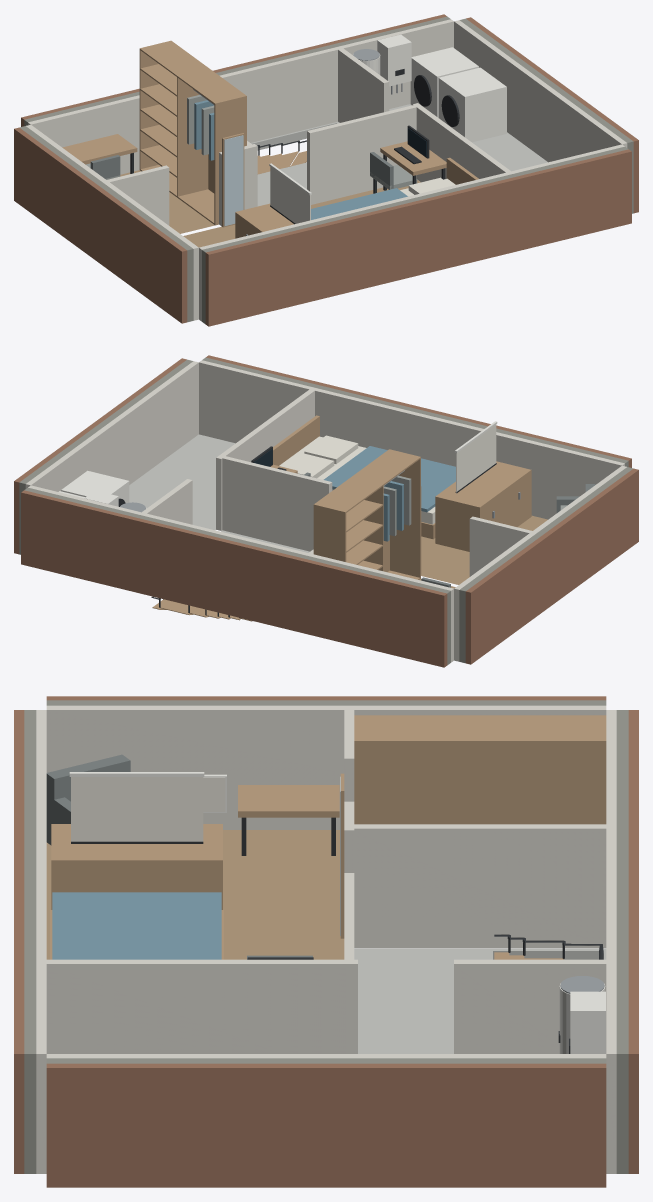
The model's file is attic.glb.
3 views of the same model, one above another, from view 1: azimuth 30°, elevation 25°; view 2: azimuth 150°, elevation 25°; view 3: azimuth 270°, elevation 25° (orthographic). The views are drawn at different scales.
Visible parts, largest first — view 1: wall__attic__0__2, wall__attic__1__2, wall__attic__2__0, wall__attic__3__0, wall__attic__8__0, furniture__attic__273__body, wall__attic__4__0, wall__attic__5__0, furniture__attic__903__horizontal.001, furniture__attic__903__side.001, wall__attic__0__1, wall__attic__6__0 (+40 smaller); view 2: wall__attic__2__2, wall__attic__0__0, wall__attic__1__2, wall__attic__3__0, wall__attic__8__0, furniture__attic__261__body, room__laundry, wall__attic__4__0, furniture__attic__903__horizontal.001, furniture__attic__903__side, furniture__attic__191__blanket, wall__attic__2__1 (+24 smaller); view 3: wall__attic__3__2, wall__attic__9__0, wall__attic__4__0, wall__attic__1__0, furniture__attic__903__back, room__attic-bedroom, furniture__attic__191__blanket, wall__attic__5__0, room__attic-hall, furniture__attic__261__body, furniture__attic__201__projection_fabric, furniture__attic__903__horizontal.001 (+22 smaller).
Part boxes in pixels (x1=…): wall__attic__0__2: x1=205, y1=149, x2=631, y2=326; wall__attic__1__2: x1=14, y1=127, x2=187, y2=323; wall__attic__2__0: x1=28, y1=19, x2=453, y2=174; wall__attic__3__0: x1=454, y1=20, x2=627, y2=162; wall__attic__8__0: x1=307, y1=105, x2=418, y2=204; furniture__attic__273__body: x1=438, y1=67, x2=506, y2=142; wall__attic__4__0: x1=412, y1=103, x2=510, y2=182; wall__attic__5__0: x1=338, y1=48, x2=389, y2=122; furniture__attic__903__horizontal.001: x1=139, y1=41, x2=245, y2=104; furniture__attic__903__side.001: x1=177, y1=68, x2=208, y2=196; wall__attic__0__1: x1=202, y1=146, x2=628, y2=324; wall__attic__6__0: x1=107, y1=165, x2=169, y2=225; wall__attic__2__2: x1=21, y1=490, x2=447, y2=667; wall__attic__0__0: x1=199, y1=360, x2=624, y2=519; wall__attic__1__2: x1=465, y1=468, x2=638, y2=664; wall__attic__3__0: x1=25, y1=361, x2=198, y2=491; wall__attic__8__0: x1=222, y1=455, x2=332, y2=551; furniture__attic__261__body: x1=435, y1=461, x2=531, y2=551; room__laundry: x1=129, y1=434, x2=235, y2=529; wall__attic__4__0: x1=216, y1=389, x2=314, y2=530; furniture__attic__903__horizontal.001: x1=315, y1=450, x2=420, y2=512; furniture__attic__903__side: x1=389, y1=449, x2=420, y2=578; furniture__attic__191__blanket: x1=323, y1=446, x2=455, y2=512; wall__attic__2__1: x1=24, y1=487, x2=450, y2=665; wall__attic__3__2: x1=46, y1=1063, x2=606, y2=1187; wall__attic__9__0: x1=354, y1=824, x2=606, y2=948; wall__attic__4__0: x1=46, y1=959, x2=357, y2=1053; wall__attic__1__0: x1=46, y1=705, x2=606, y2=829; furniture__attic__903__back: x1=354, y1=740, x2=606, y2=824; room__attic-bedroom: x1=46, y1=830, x2=344, y2=959; furniture__attic__191__blanket: x1=52, y1=892, x2=221, y2=959; wall__attic__5__0: x1=454, y1=959, x2=606, y2=1053; room__attic-hall: x1=354, y1=948, x2=489, y2=1053; furniture__attic__261__body: x1=51, y1=824, x2=222, y2=909; furniture__attic__201__projection_fabric: x1=71, y1=777, x2=203, y2=841; furniture__attic__903__horizontal.001: x1=354, y1=715, x2=606, y2=743.
Bounding box in the file's own units: 8.64 × 2.71 × 6.14.
